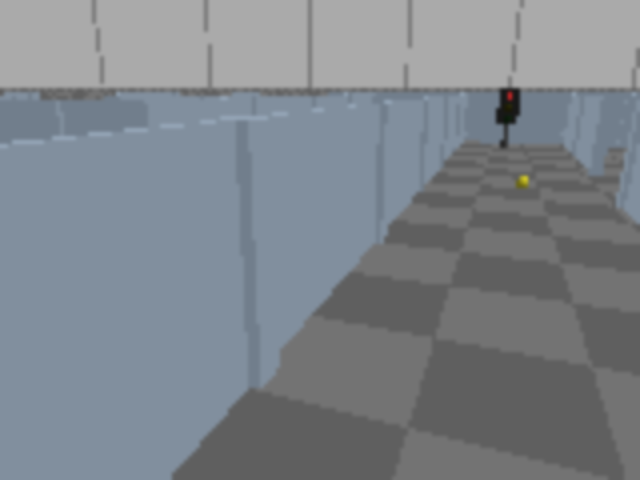puck: (514, 175, 532, 190)
traffic_light: (494, 85, 522, 150)
